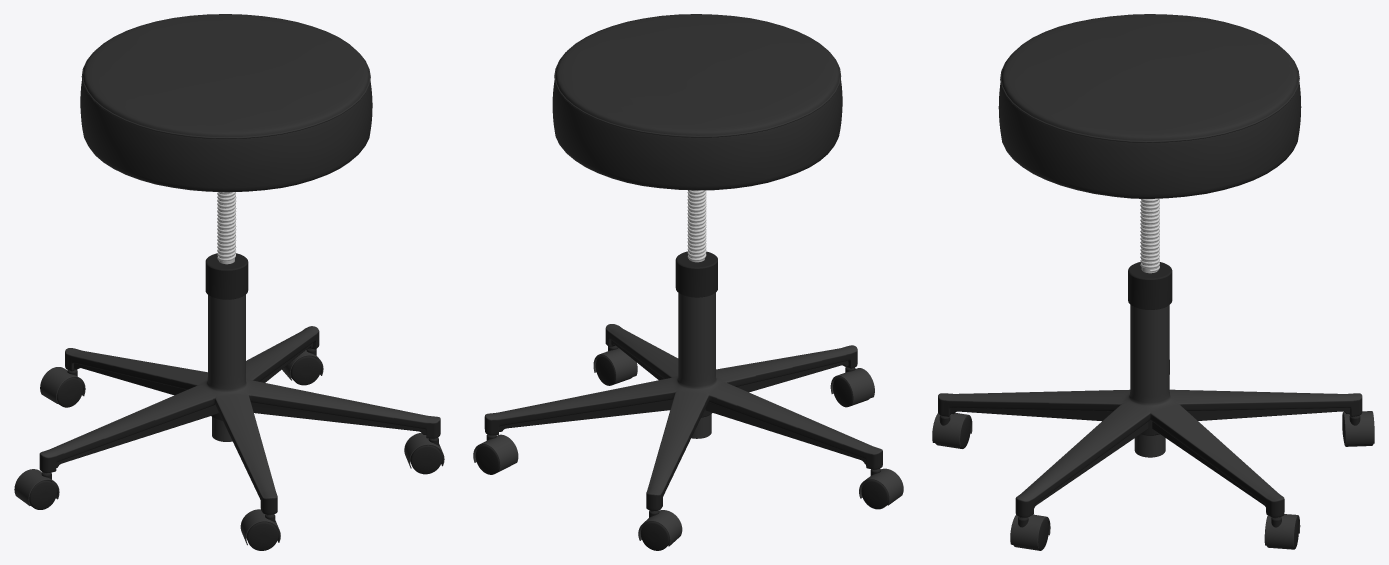
Rendered from stool.fbx.
3 views of the same model, side by side, from view 1: azimuth 30°, elevation 25°; view 2: azimuth 150°, elevation 25°; view 3: azimuth 270°, elevation 25° (orthographic). The views are drawn at different scales.
Parts seen in each view (by area): view 1: stool; view 2: stool; view 3: stool.
Part boxes in pixels (left/top/right/bottom): stool: left=14, top=14, right=444, bottom=550; stool: left=473, top=14, right=903, bottom=550; stool: left=932, top=14, right=1374, bottom=550.
Bounding box in the file's own units: 56.68 × 58.74 × 57.94.
1 material, 1 textured.
